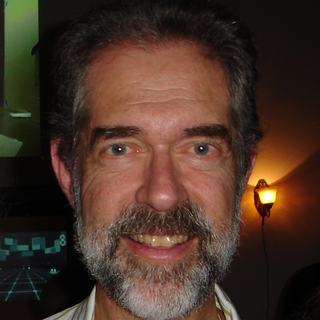eye: (184, 136, 225, 161), (99, 139, 141, 163)
